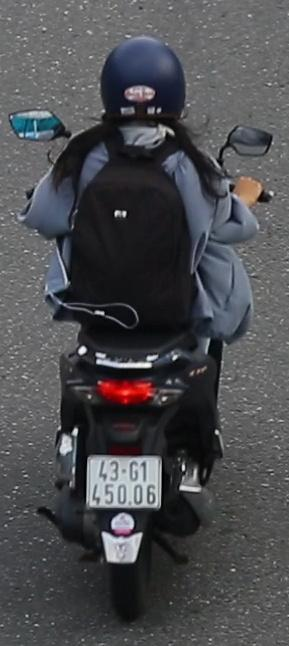LP: (84, 451, 165, 516)
helmet: (95, 32, 195, 139)
